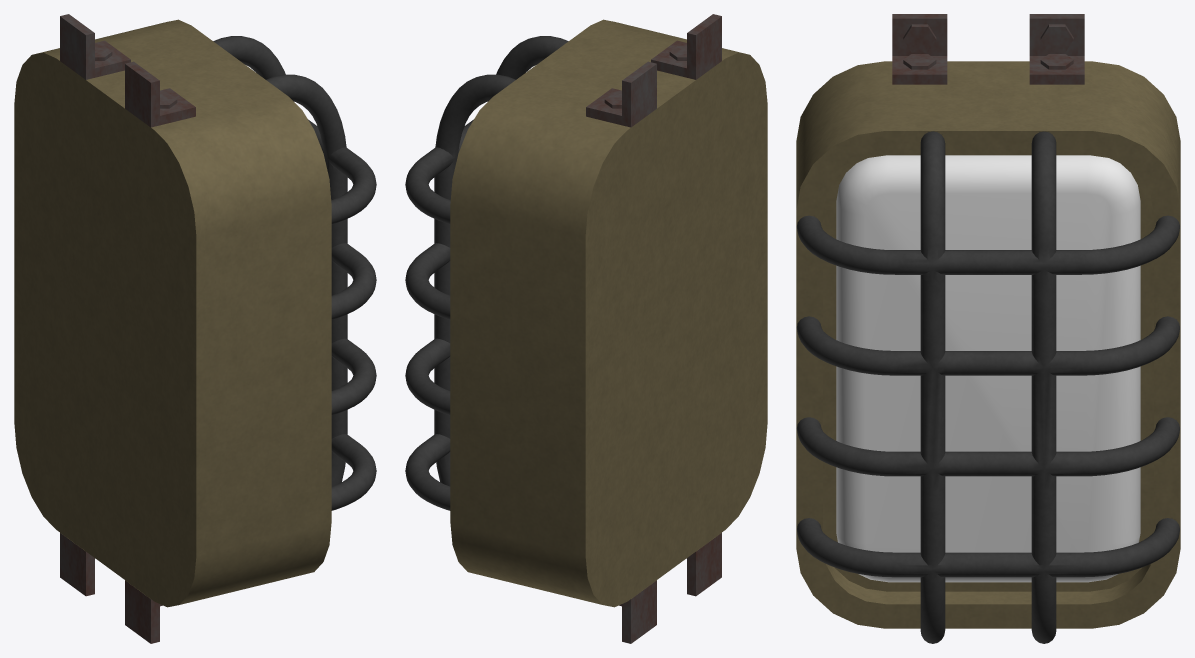
Rendered from emergency_light.fbx.
The picture shows the model from 3 angles, left to right: view 1: azimuth 30°, elevation 25°; view 2: azimuth 150°, elevation 25°; view 3: azimuth 270°, elevation 25°; orthographic projection. The views are drawn at different scales.
Parts seen in each view (by area): view 1: bake; view 2: bake; view 3: bake.
Part boxes in pixels (x1,y1,x2,y2): bake: (14, 14, 376, 643); bake: (405, 14, 767, 643); bake: (796, 14, 1180, 643).
Size of the model in its own units: 191 by 476 by 280.
1 material, 1 textured.
